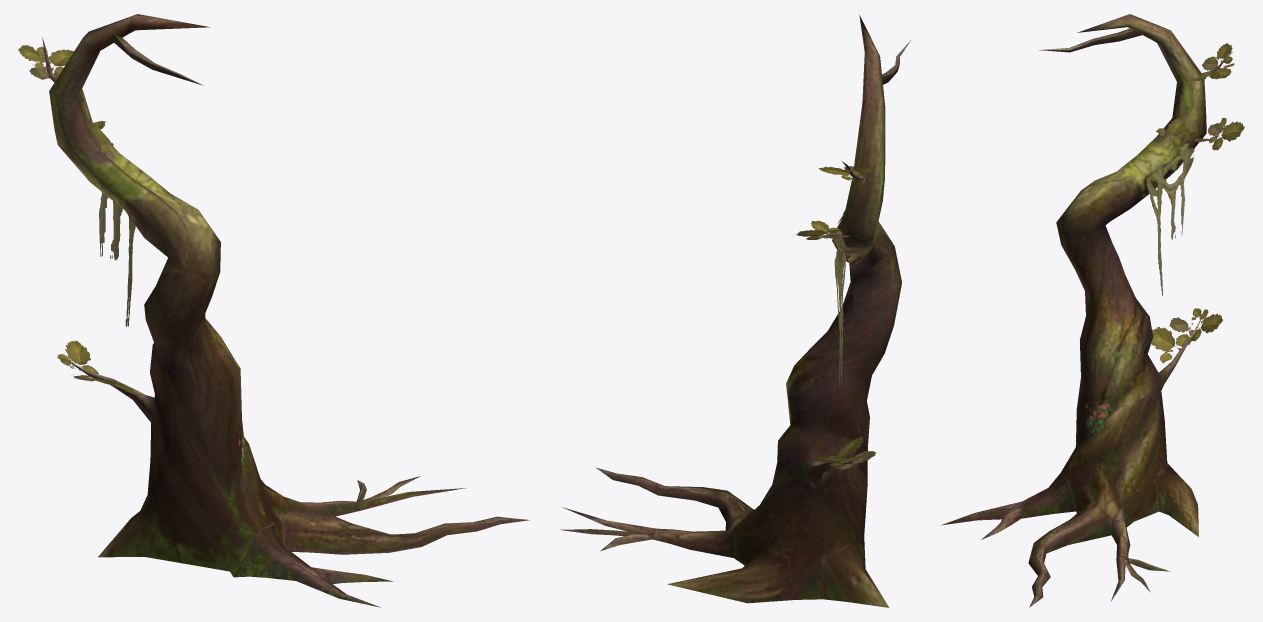
The model's file is wlf_shugeng05_w.FBX.
3 views of the same model, side by side, from view 1: azimuth 30°, elevation 25°; view 2: azimuth 150°, elevation 25°; view 3: azimuth 270°, elevation 25° (orthographic). The views are drawn at different scales.
Visible parts, largest first — view 1: wlf_shugeng05_w; view 2: wlf_shugeng05_w; view 3: wlf_shugeng05_w.
Part boxes in pixels (x1=…): wlf_shugeng05_w: x1=18, y1=14, x2=529, y2=607; wlf_shugeng05_w: x1=560, y1=15, x2=910, y2=607; wlf_shugeng05_w: x1=941, y1=14, x2=1244, y2=607.
Size of the model in its own units: 36.44 by 47.45 by 29.14.
